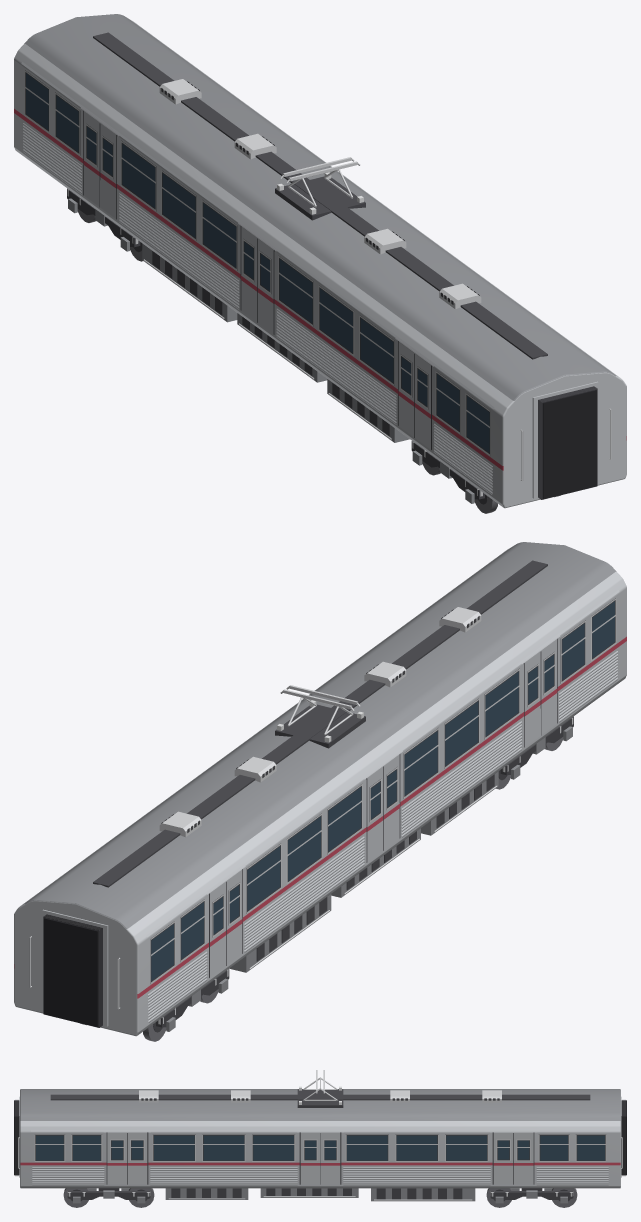
File: 389_close.fbx
3 views of the same model, one above another, from view 1: azimuth 30°, elevation 25°; view 2: azimuth 150°, elevation 25°; view 3: azimuth 270°, elevation 25° (orthographic). The views are drawn at different scales.
Visible parts, largest first — view 1: 389_close; view 2: 389_close; view 3: 389_close.
Part boxes in pixels (bbox=[...]): 389_close: bbox=[14, 14, 626, 513]; 389_close: bbox=[14, 542, 626, 1041]; 389_close: bbox=[14, 1070, 626, 1207].
Size of the model in its own units: 2.93 by 4.2 by 20.
